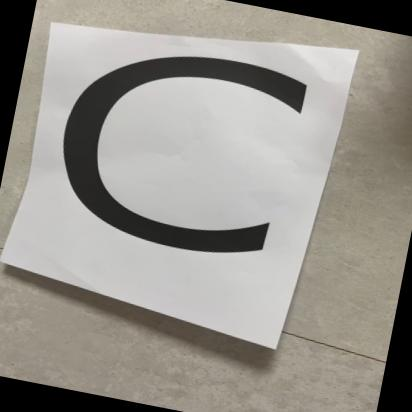seat: (17, 0, 340, 338)
